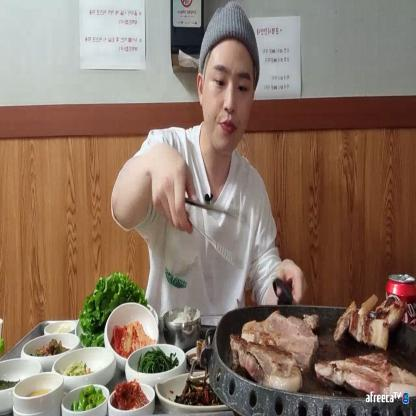streamer: (111, 1, 308, 325)
